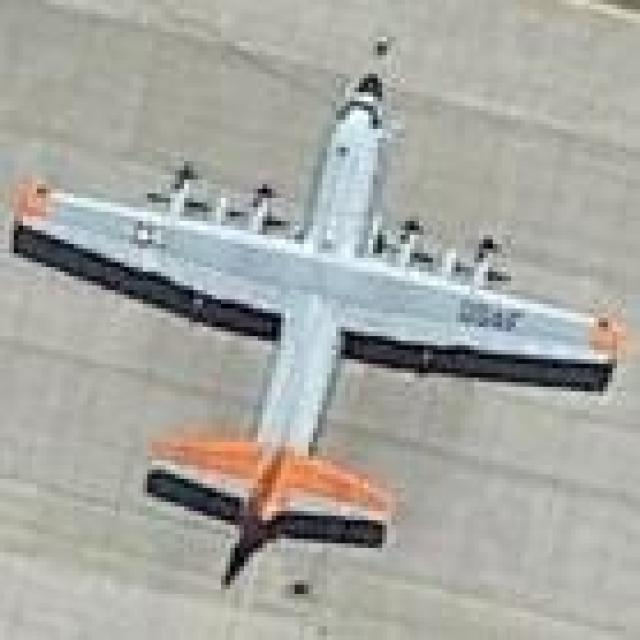C-130_TopDown: (3, 66, 626, 593)
